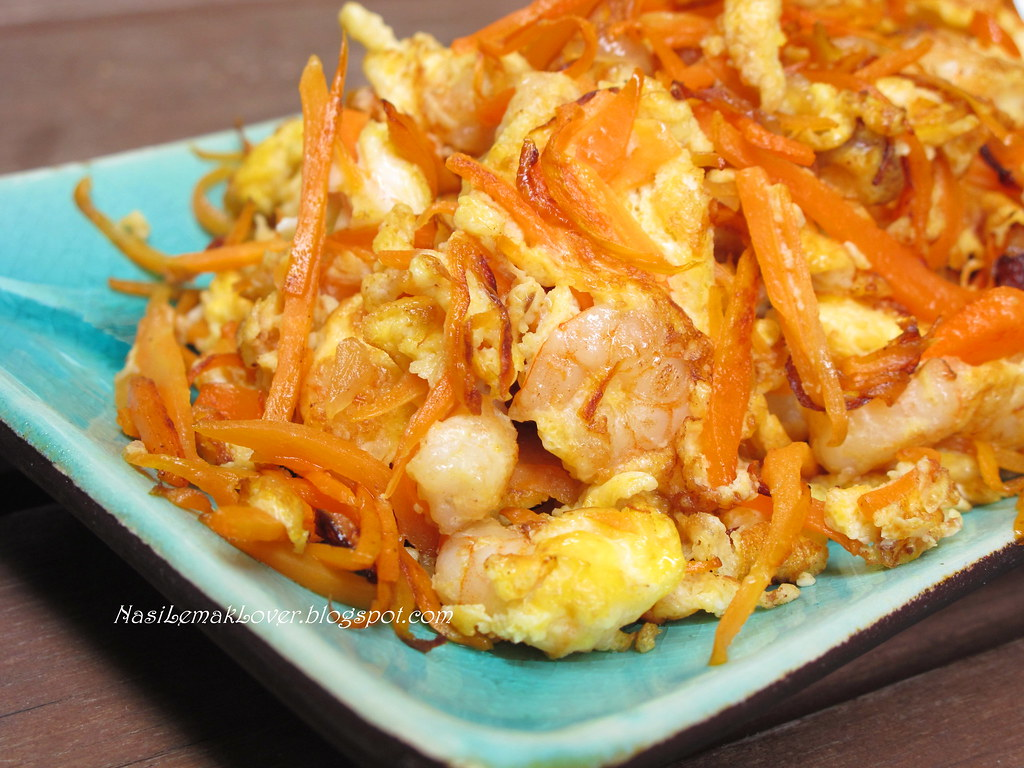carrot_eggs: (188, 31, 1024, 594), (111, 173, 593, 570), (433, 60, 829, 526), (731, 28, 981, 516)
